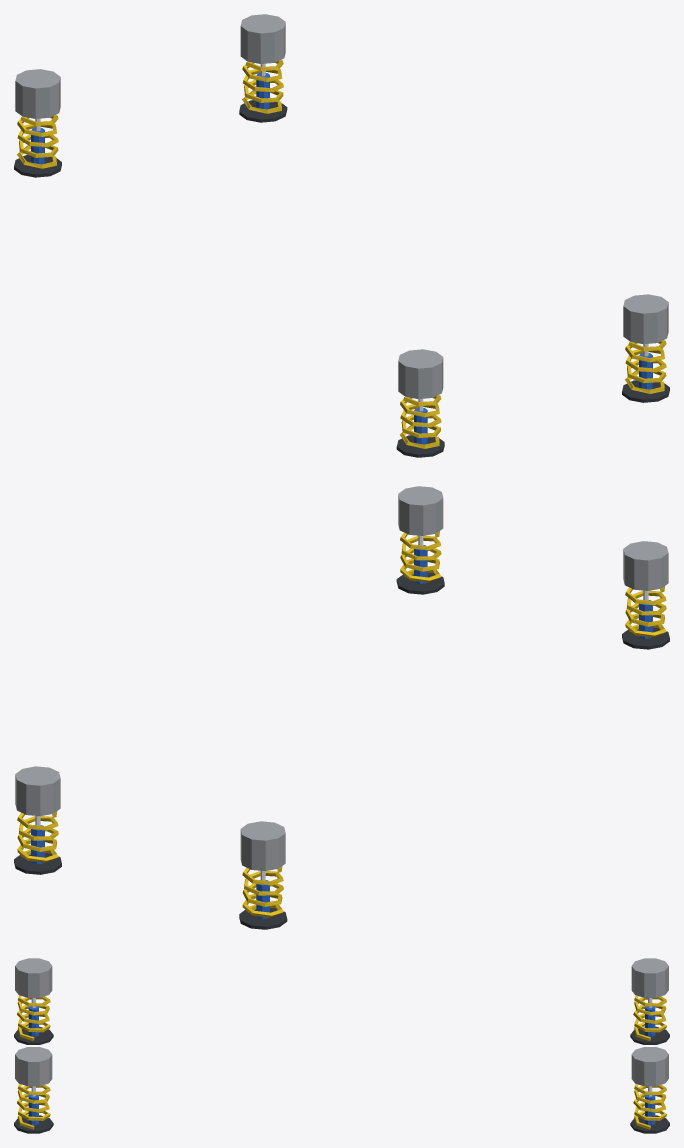
Rendered from ridgeback_4x4_lift_kit_4in.glb.
3 views of the same model, one above another, from view 1: azimuth 30°, elevation 25°; view 2: azimuth 150°, elevation 25°; view 3: azimuth 270°, elevation 25° (orthographic). The views are drawn at different scales.
Visible parts, largest first — view 1: model; view 2: model; view 3: model.
Part boxes in pixels (x1,y1,x2,y2): model: (14, 14, 669, 457); model: (14, 486, 669, 929); model: (14, 958, 669, 1133).
Size of the model in its own units: 1.06 by 0.3381 by 2.82.
3 materials, 1 textured.
